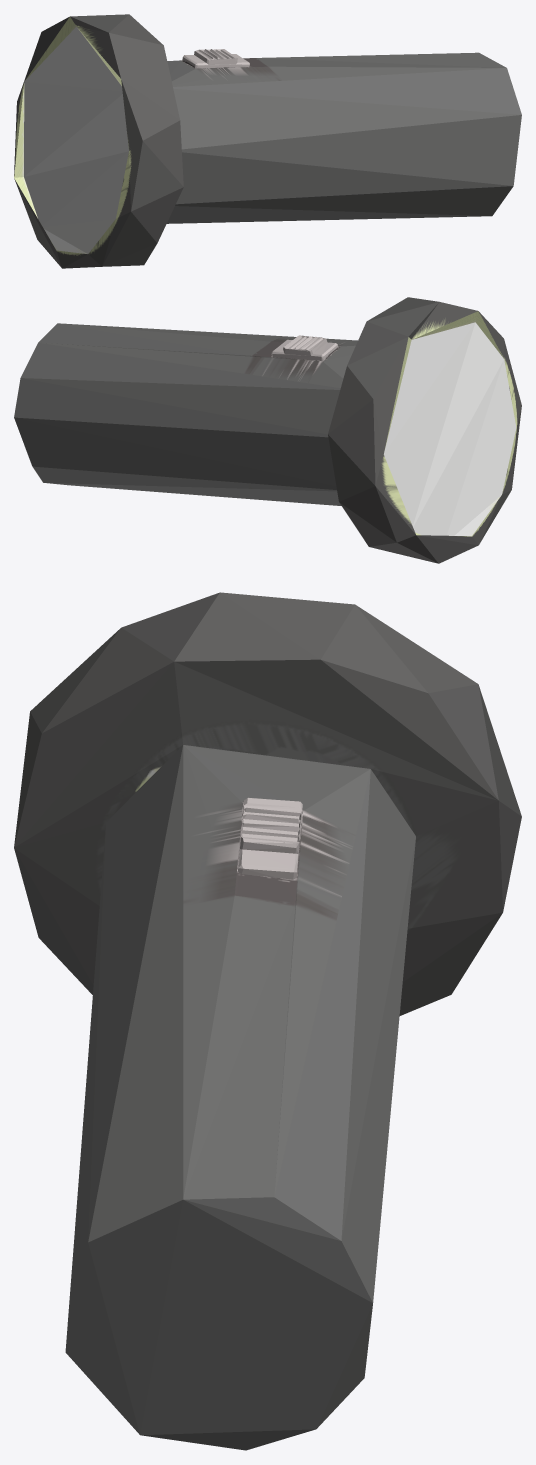
File: taschenlampe.glb
The picture shows the model from 3 angles, top to bottom: view 1: azimuth 30°, elevation 25°; view 2: azimuth 150°, elevation 25°; view 3: azimuth 270°, elevation 25°; orthographic projection. The views are drawn at different scales.
Visible parts, largest first — view 1: 292228_23_06_11_15_36_58_2, 292228_23_06_11_15_36_58_1; view 2: 292228_23_06_11_15_36_58_2, 292228_23_06_11_15_36_58_1; view 3: 292228_23_06_11_15_36_58_2, 292228_23_06_11_15_36_58_1.
Boxes of the visible parts, left/top/right/bottom form: 292228_23_06_11_15_36_58_2: left=14, top=14, right=521, bottom=268; 292228_23_06_11_15_36_58_1: left=182, top=49, right=249, bottom=68; 292228_23_06_11_15_36_58_2: left=14, top=297, right=521, bottom=563; 292228_23_06_11_15_36_58_1: left=271, top=335, right=338, bottom=360; 292228_23_06_11_15_36_58_2: left=14, top=592, right=521, bottom=1450; 292228_23_06_11_15_36_58_1: left=238, top=797, right=302, bottom=879.
Bounding box in the file's own units: 3.37 × 1.98 × 1.77.
Materials: 2 (2 with a texture image).
